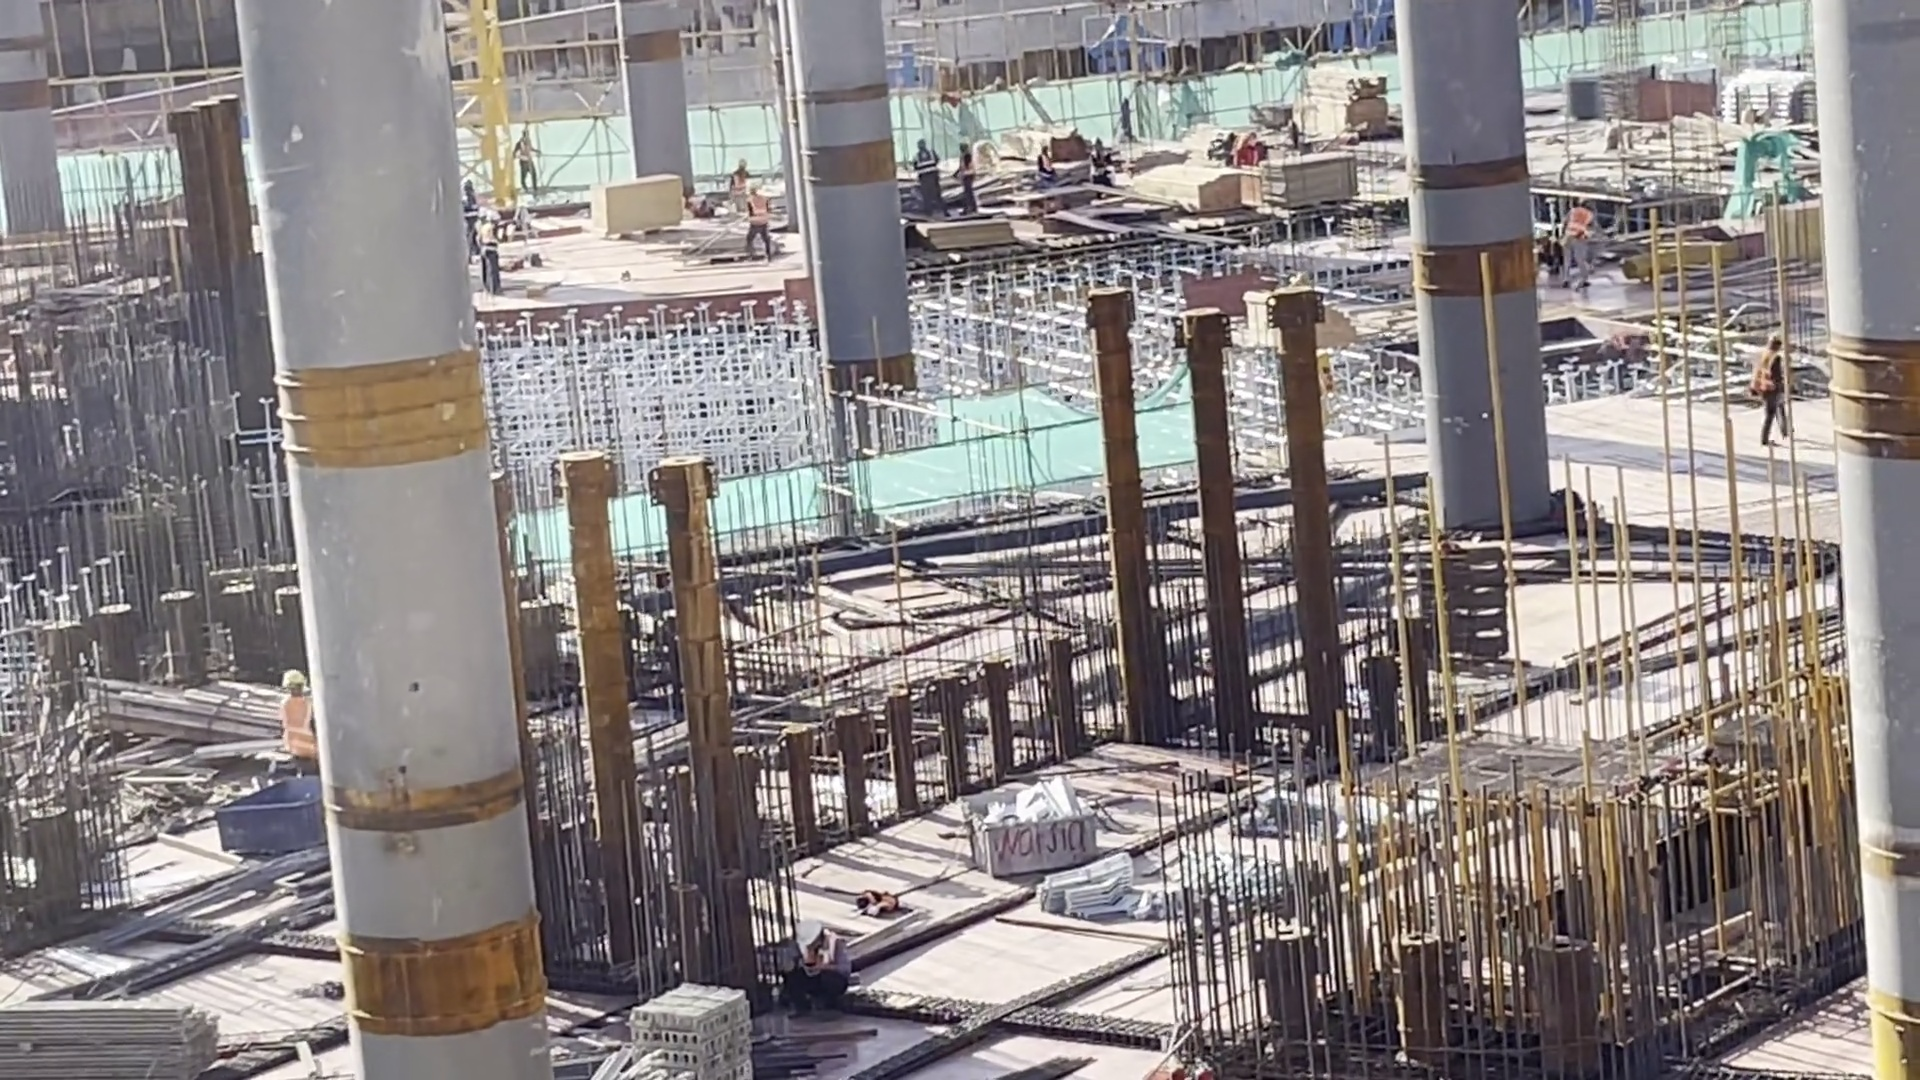helmet: (276, 667, 315, 694), (790, 916, 824, 946), (1770, 330, 1787, 348)
hopper: (959, 786, 1107, 879), (208, 763, 347, 857)
person: (259, 643, 330, 769), (782, 913, 855, 1000), (1556, 182, 1608, 279), (1193, 123, 1283, 176), (462, 204, 511, 298), (908, 132, 954, 226), (1764, 332, 1796, 426), (741, 174, 774, 253), (514, 120, 544, 197)
vest: (274, 696, 324, 759), (475, 220, 494, 260), (748, 192, 764, 220)
wood: (1, 997, 223, 1076)
